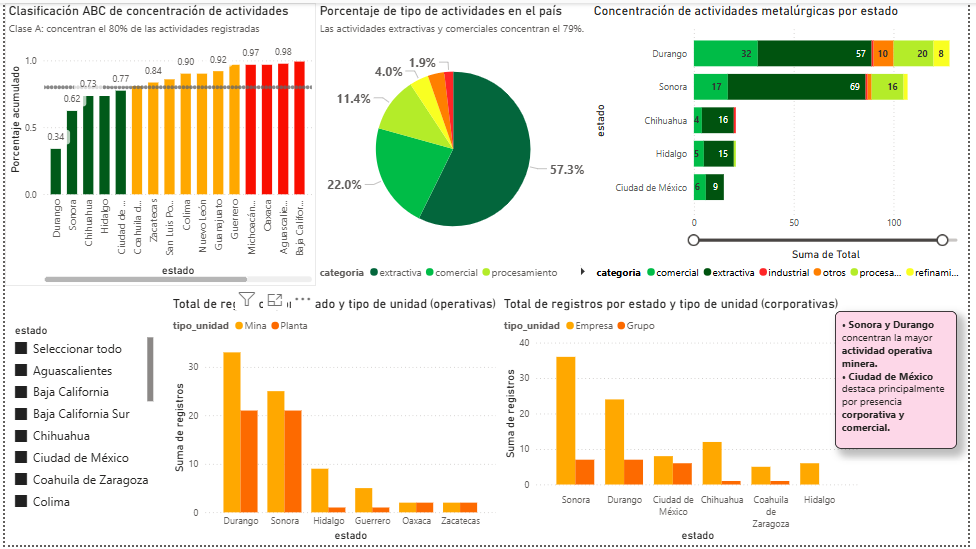

What the dashboard file says about the page in this screenshot:
{"tool":"powerbi","page":{"name":"Página 1","canvas":[1280,720],"ordinal":0},"visuals":[{"type":"barChart","title":"Concentración de actividades metalúrgicas por estado","fields":{"Category":["actividades.estado"],"Y":["Sum(actividades.Total)"],"Series":["actividades.categoria_actividad"]},"box":[776.9,0,503.1,389.2],"z":0},{"type":"clusteredColumnChart","title":"Total de registros por estado y tipo de unidad (corporativas)","fields":{"Category":["corporativos.estado"],"Series":["corporativos.tipo_unidad"],"Y":["Sum(corporativos.registros)"]},"box":[656.9,389.2,481.5,330.8],"z":1000},{"type":"clusteredColumnChart","title":"Total de registros por estado y tipo de unidad (operativas)","fields":{"Series":["operativas.tipo_unidad"],"Category":["operativas.estado"],"Y":["Sum(operativas.registros)"]},"box":[218,389.3,439,330.7],"z":2000},{"type":"pieChart","title":"Porcentaje de tipo de actividades en el país","fields":{"Category":["actividades.categoria_actividad"],"Y":["Sum(actividades.Total)"]},"box":[412.3,0,364.6,389.2],"z":3000},{"type":"lineStackedColumnComboChart","title":"Clasificación ABC de concentración de actividades","fields":{"Y":["select","ABC_fijo.Porcentaje acumulado"],"Category":["ABC_fijo.estado"]},"box":[0,0,412.3,389.2],"z":4000},{"type":"slicer","fields":{"Values":["actividades.estado"]},"box":[0,421.5,201.5,298.5],"z":6000},{"type":"textbox","box":[1103.1,409.2,161.5,183.1],"z":7000}]}

Visuals, with their boxes in screenshot pixels (x1, y1, x2, y2), scaled from the page's 1280x720 canvas onto the 976x549 screenshot:
"Concentración de actividades metalúrgicas por estado" barChart: <region>592, 0, 975, 297</region>
"Total de registros por estado y tipo de unidad (corporativas)" clusteredColumnChart: <region>501, 297, 868, 548</region>
"Total de registros por estado y tipo de unidad (operativas)" clusteredColumnChart: <region>166, 297, 501, 548</region>
"Porcentaje de tipo de actividades en el país" pieChart: <region>314, 0, 592, 297</region>
"Clasificación ABC de concentración de actividades" lineStackedColumnComboChart: <region>0, 0, 314, 297</region>
slicer - actividades.estado: <region>0, 321, 154, 548</region>
textbox: <region>841, 312, 964, 452</region>
